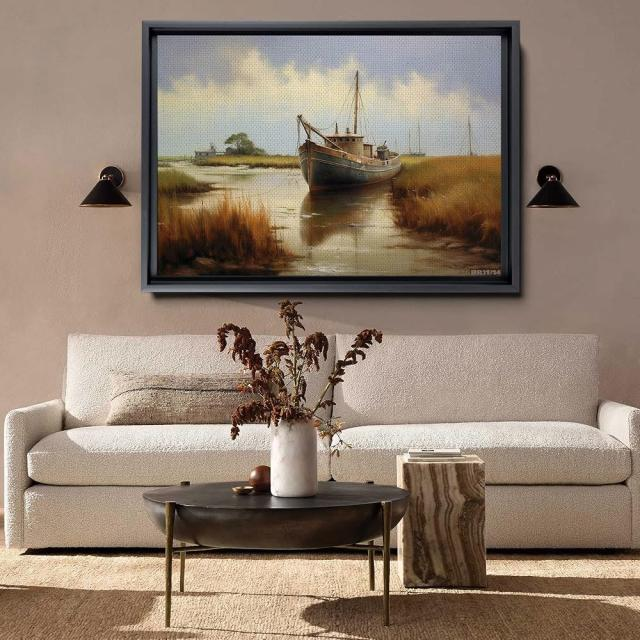painting: (141, 18, 523, 296)
